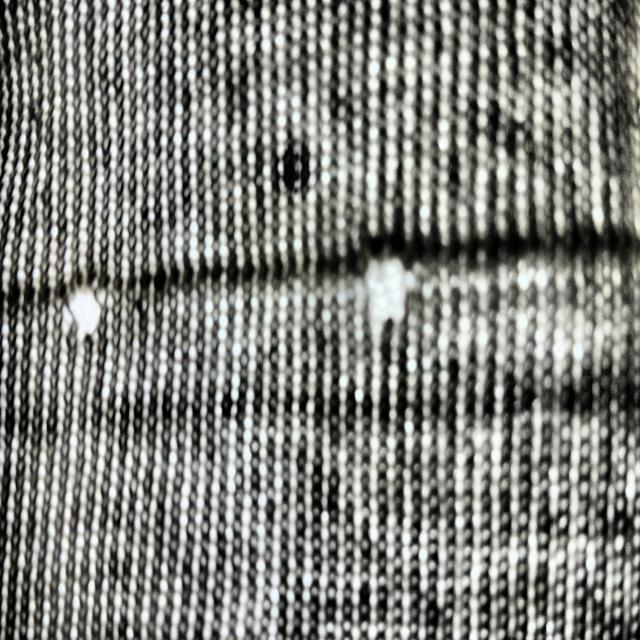Hole: (362, 242, 416, 330), (65, 280, 111, 340), (278, 146, 312, 193)
